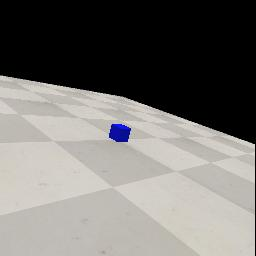box: (109, 124, 131, 142)
